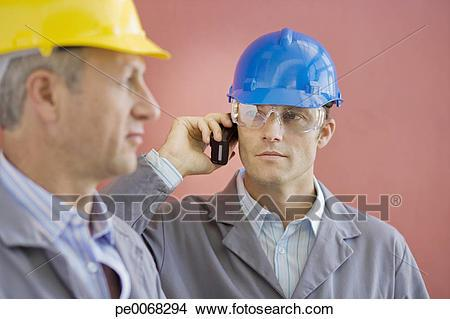helmet: (1, 1, 183, 59), (231, 30, 345, 110)
